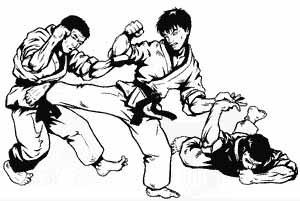person: (23, 6, 248, 197), (5, 11, 129, 187), (171, 91, 296, 186)
